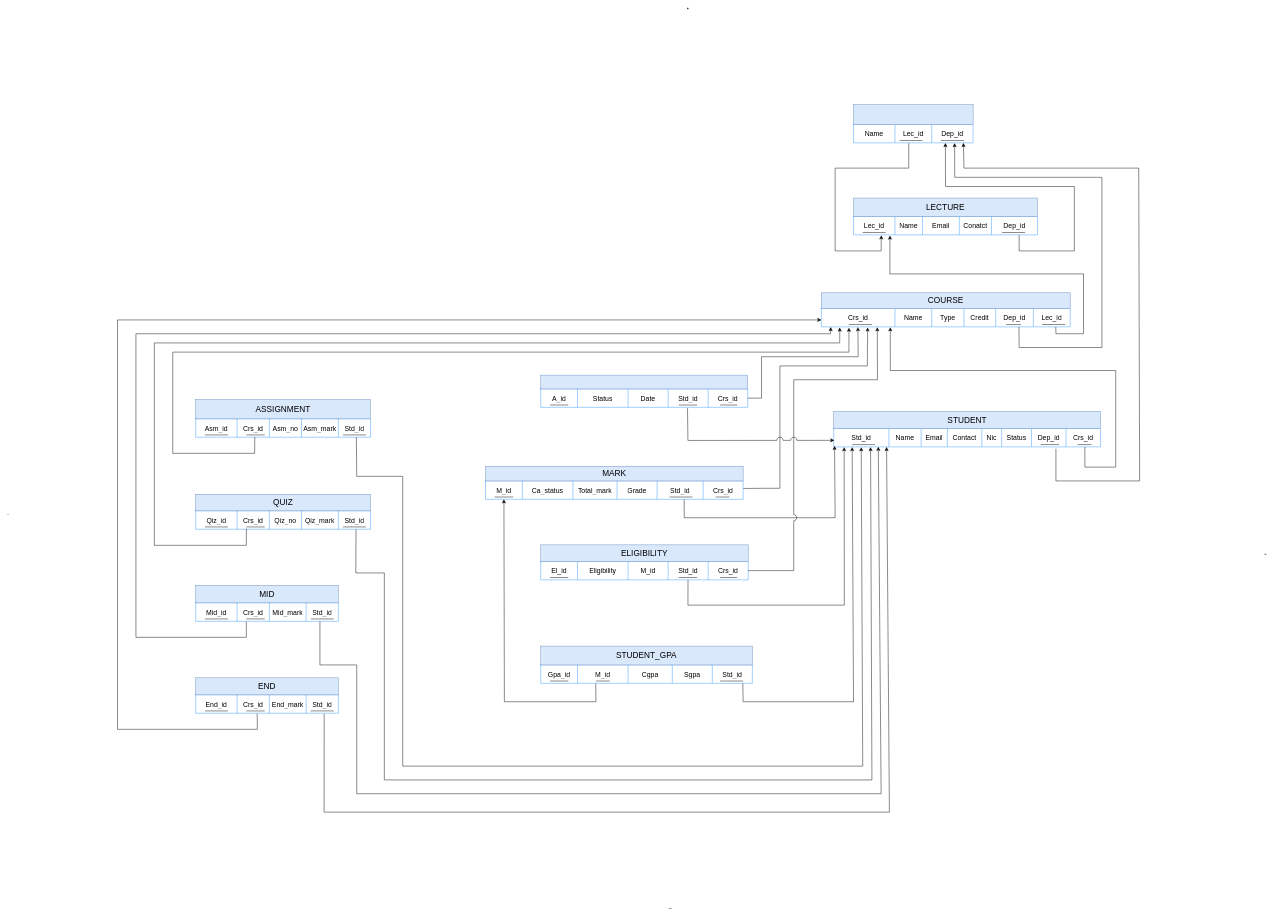
This 1274x917 diagram has some shape labels left out. The box of each missing label's shape, as (x1, y1, x2, y2) in pixels:
ATTENDANCE: (540, 375, 748, 389)
DEPARTMENT: (853, 104, 973, 124)
